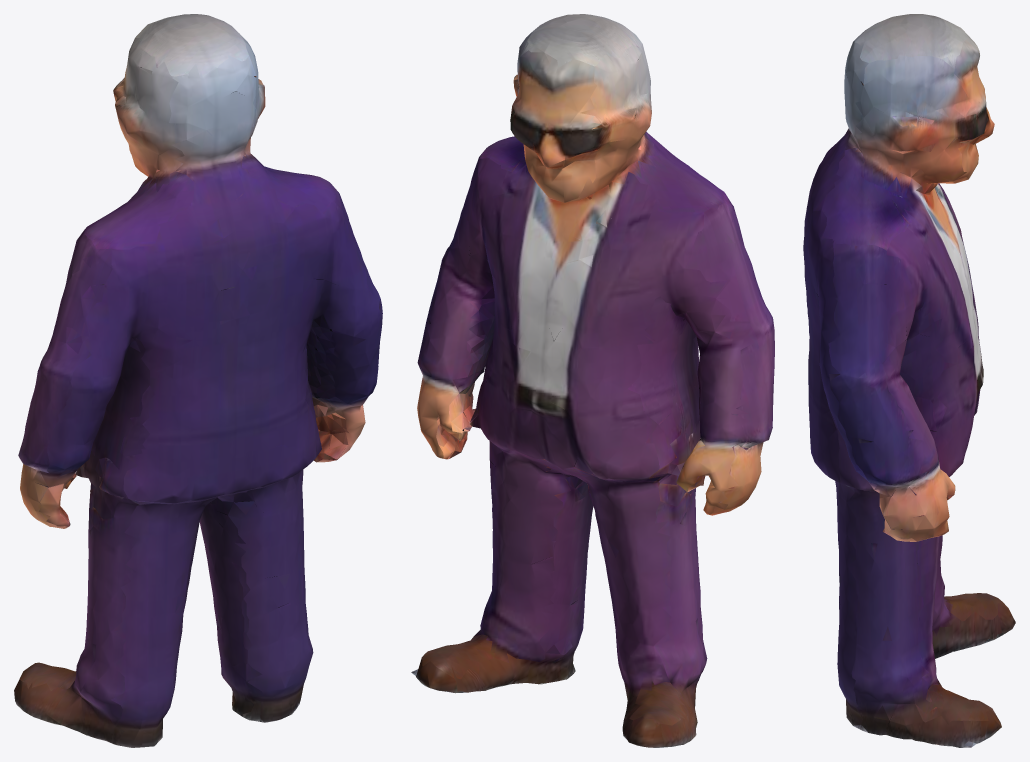
File: ceo-prototype.glb
The picture shows the model from 3 angles, left to right: view 1: azimuth 30°, elevation 25°; view 2: azimuth 150°, elevation 25°; view 3: azimuth 270°, elevation 25°; orthographic projection. The views are drawn at different scales.
Visible parts, largest first — view 1: world; view 2: world; view 3: world.
Part boxes in pixels (left/top/right/bottom): world: left=14, top=14, right=382, bottom=747; world: left=411, top=14, right=774, bottom=747; world: left=803, top=14, right=1015, bottom=747.
Bounding box in the file's own units: 0.5016 × 0.9463 × 0.2702.
Materials: 1 (1 with a texture image).
